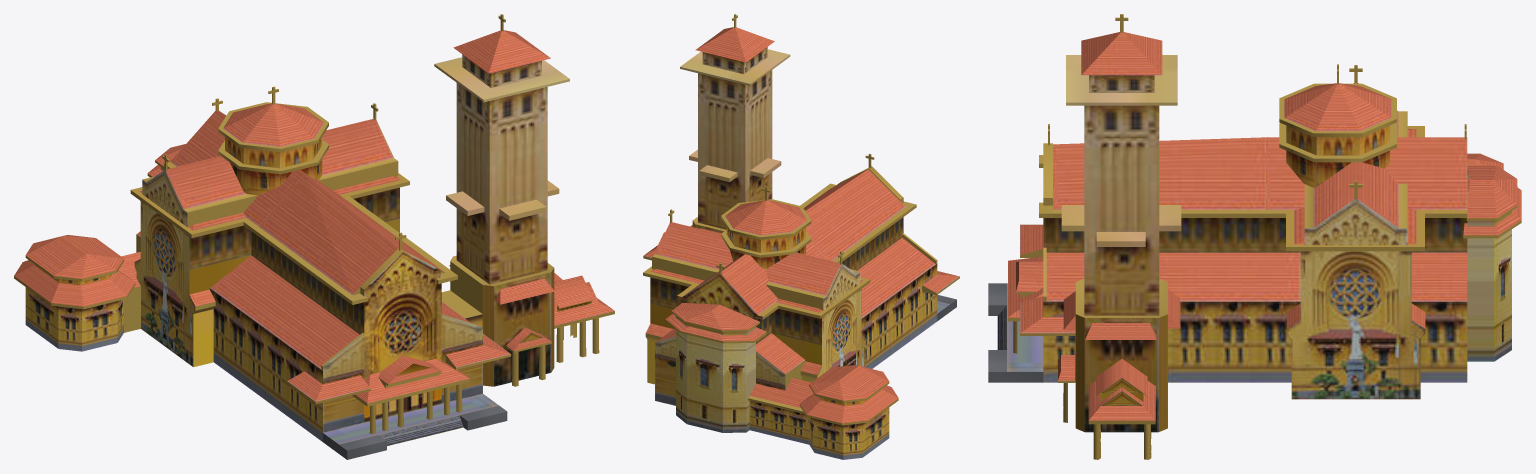
3 views of the same model, side by side, from view 1: azimuth 30°, elevation 25°; view 2: azimuth 150°, elevation 25°; view 3: azimuth 270°, elevation 25° (orthographic). The views are drawn at different scales.
Parts seen in each view (by area): view 1: 5dd7562697c70c18602d3d49; view 2: 5dd7562697c70c18602d3d49; view 3: 5dd7562697c70c18602d3d49.
Boxes of the visible parts, left/top/right/bottom form: 5dd7562697c70c18602d3d49: left=14, top=14, right=614, bottom=459; 5dd7562697c70c18602d3d49: left=643, top=14, right=959, bottom=459; 5dd7562697c70c18602d3d49: left=988, top=14, right=1521, bottom=459.
Size of the model in its own units: 60.23 by 47.5 by 57.68.
1 material, 1 textured.
